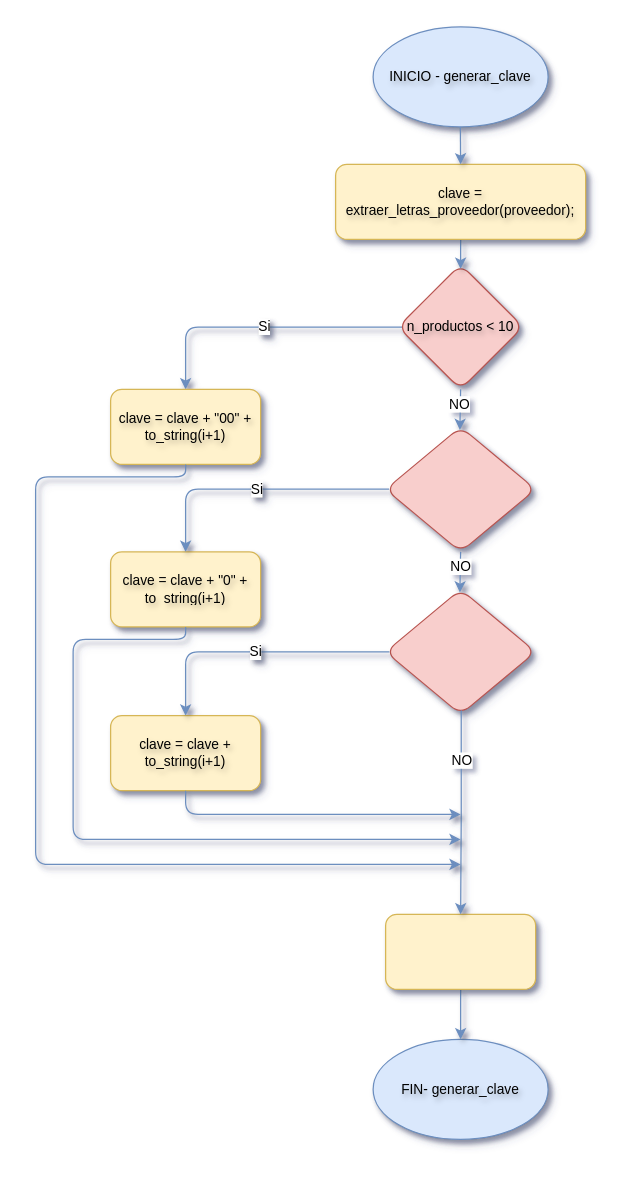
Image size: 623x1178. Some labels were removed from this diagram. The centre of each missing label's shape, as x and y in pixels:
(n_productos > 9) Y (n_productos < 100: the point at 461,491
(n_productos > 99) Y (n_productos < 1000: the point at 461,653
REGRESA letras: the point at 461,953
